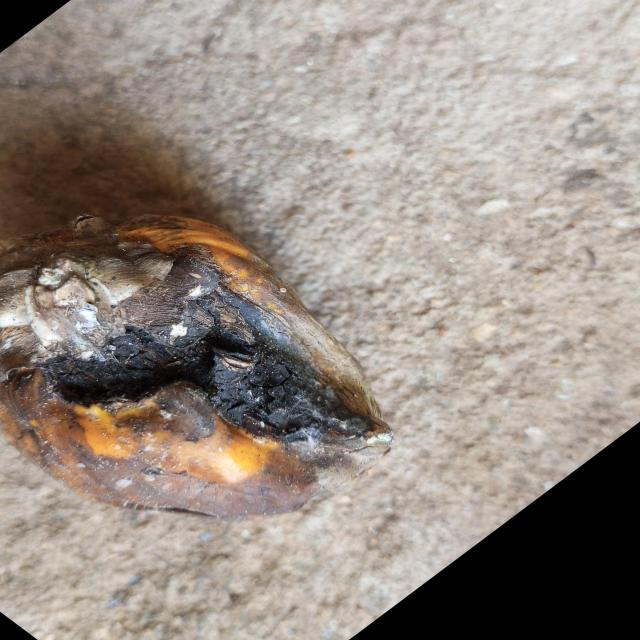damaged: (0, 225, 393, 521)
